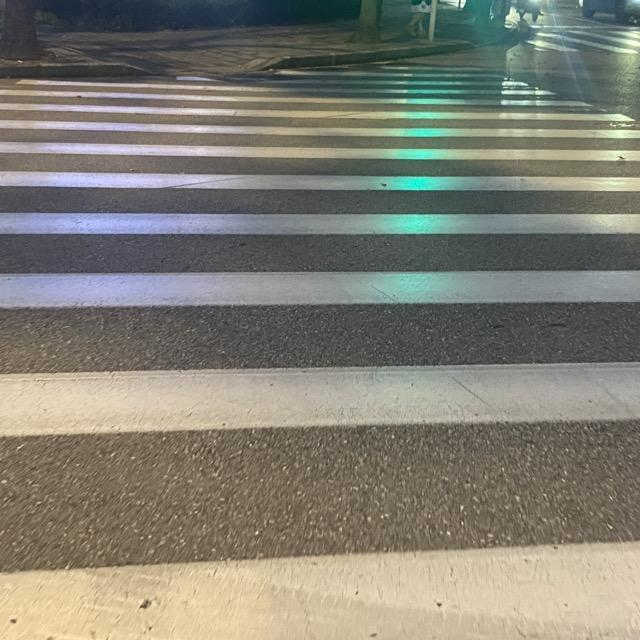curb: (258, 43, 469, 71), (0, 63, 150, 78)
